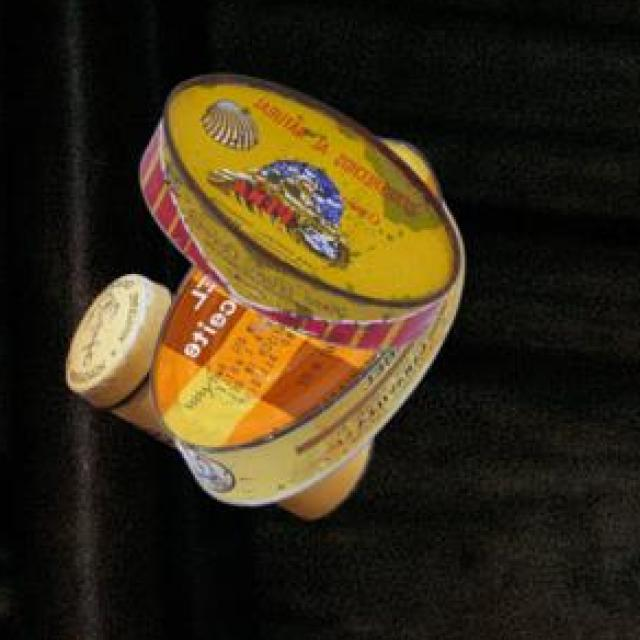logam: (155, 136, 468, 503), (144, 71, 464, 345), (69, 271, 378, 516)
